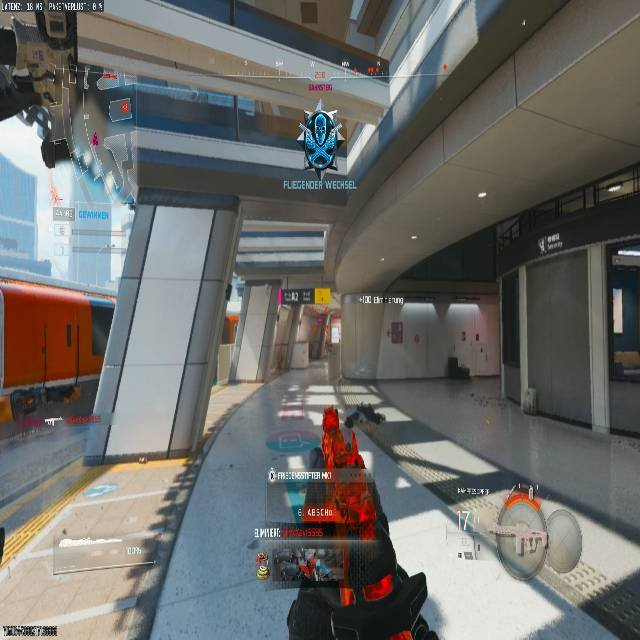player: (295, 106, 343, 178), (388, 316, 404, 346)
